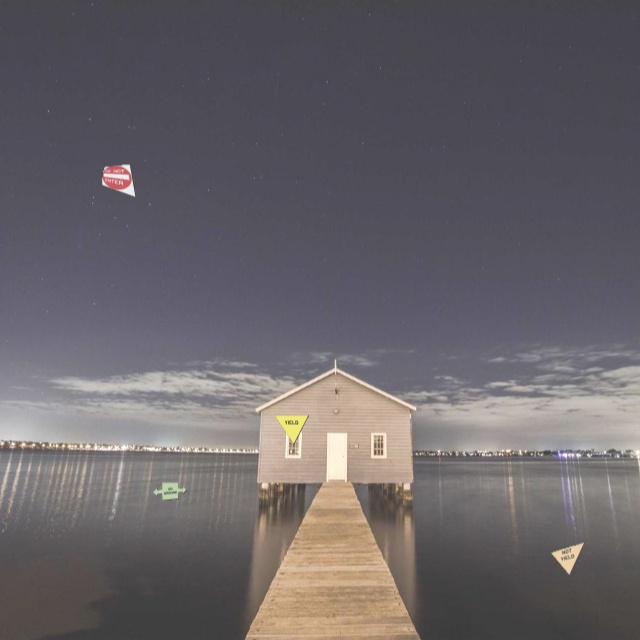DO_NOT_ENTER: (101, 163, 136, 197)
GO_AROUND: (152, 481, 187, 500)
NOT_YIELD: (550, 541, 585, 575)
YIELD: (274, 414, 309, 444)
